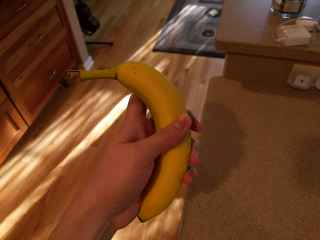banana: (45, 57, 194, 226)
